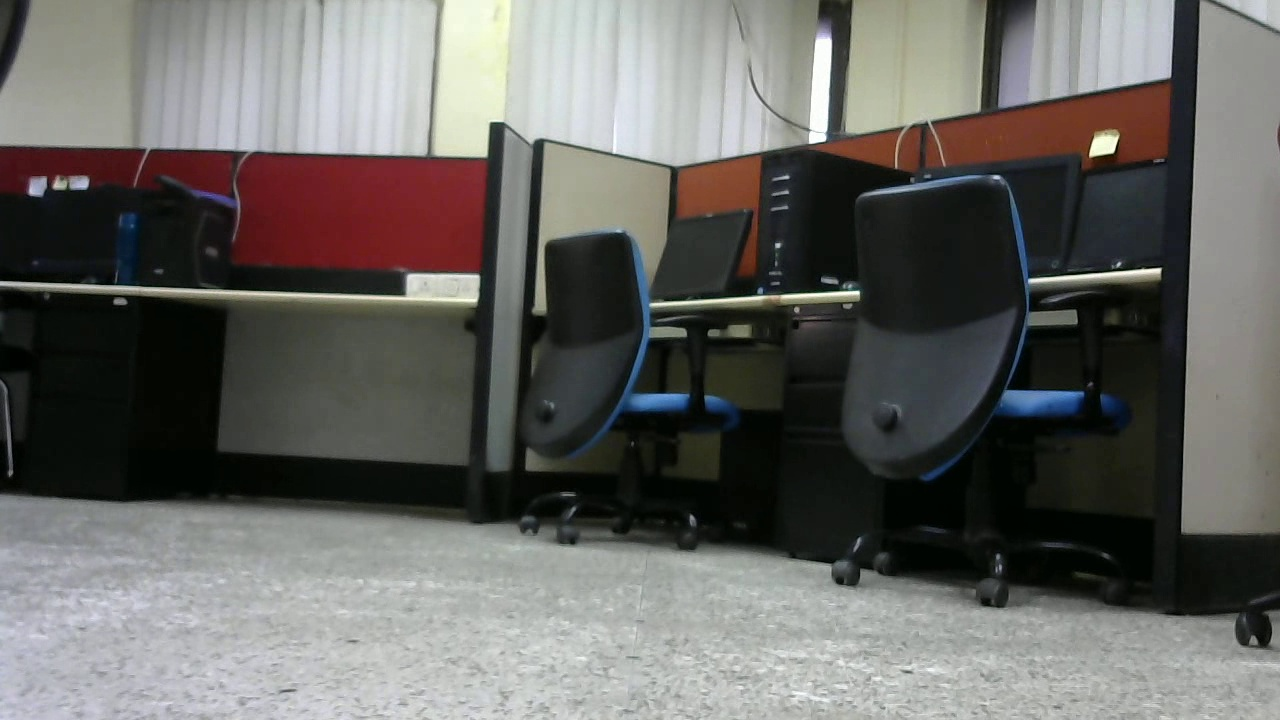chair: (824, 171, 1140, 613), (513, 228, 746, 554)
